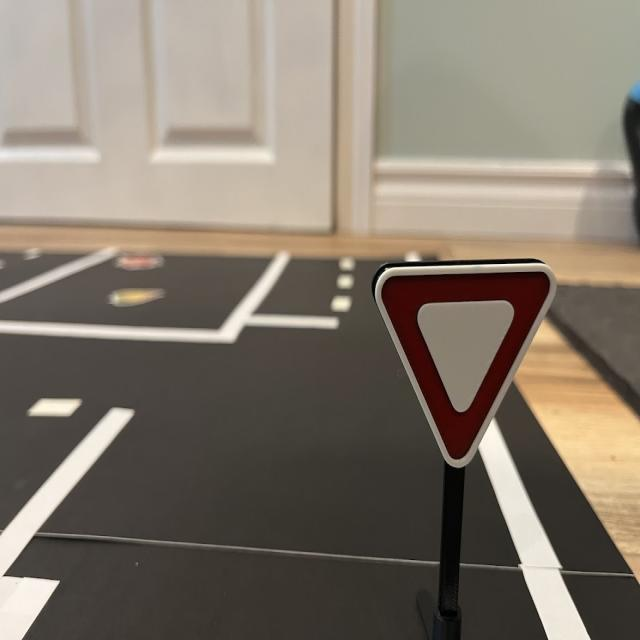sign_yield: (373, 261, 559, 474)
